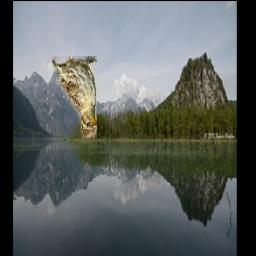Sparrow: (53, 57, 98, 139)
